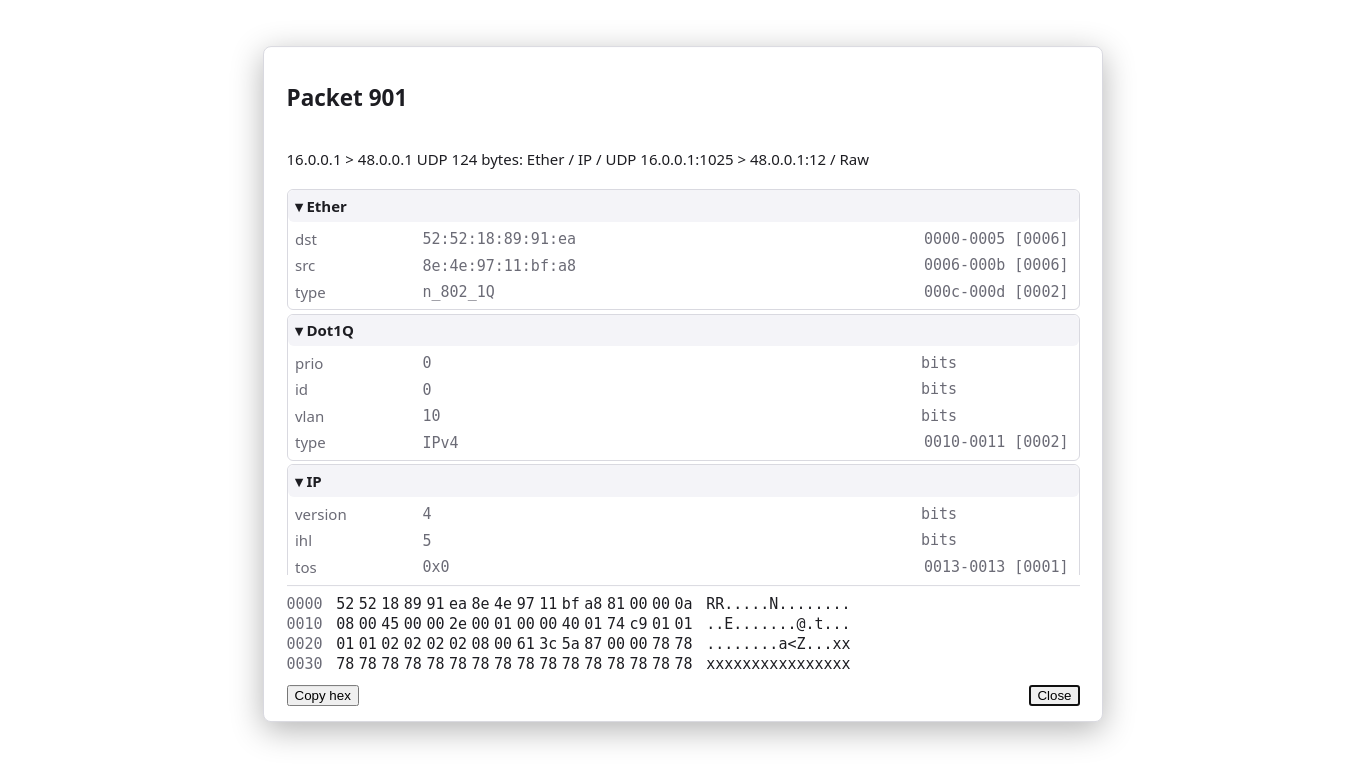
Scenario: PacketViewer › an ICMP echo: a byte of the payload selects Raw load, not the absent ICMP fields behind it
The image size is (1366, 768).
Expected: the button "ts_ori" is not shown
Step 1. Click the button named "byte 46: " → (661, 644), box left=650, top=634, right=672, bottom=654
(page scrolled)
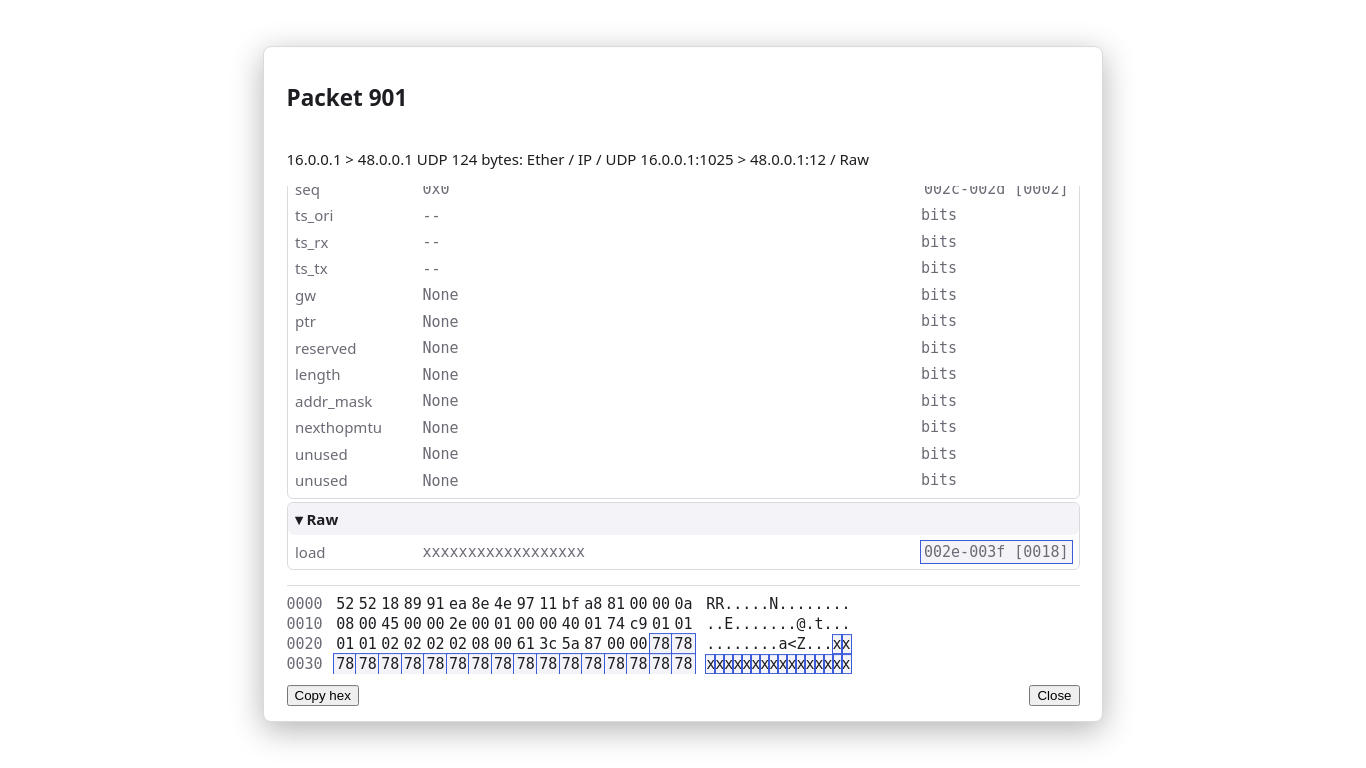
Expected: the button named "load bytes 002e-" is shown, left=921, top=541, right=1072, bottom=563
